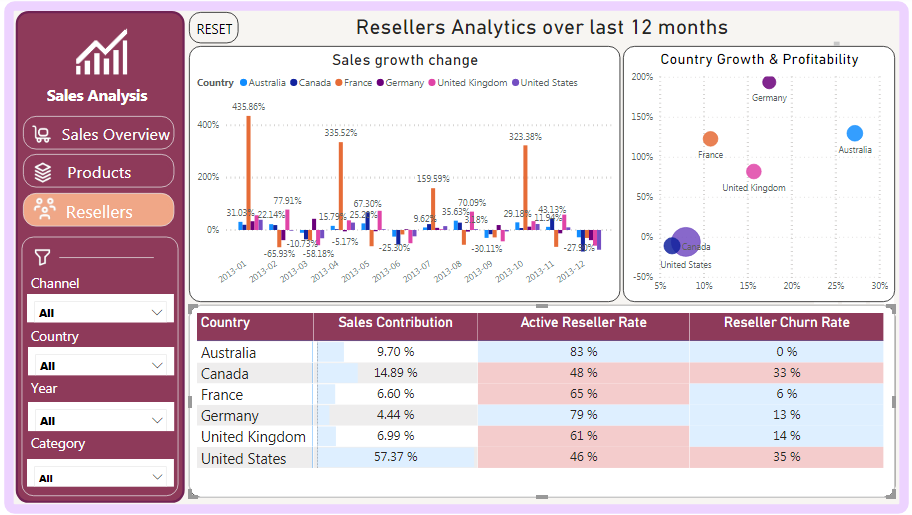

This screenshot's page, from the dashboard's own definition file:
{"tool":"powerbi","page":{"name":"Resellers","canvas":[1280,720],"ordinal":4},"visuals":[{"type":"basicShape","title":"Shape","box":[10.1,0,1269.4,718.6],"z":0},{"type":"basicShape","title":"Shape","box":[35.8,14,237.1,689.6],"z":1000},{"type":"actionButton","box":[48.8,164.3,208.2,46.3],"z":2000,"group":"g1"},{"type":"actionButton","box":[48.8,216.3,208.2,46.3],"z":3000,"group":"g1"},{"type":"basicShape","box":[44.5,327.7,219.8,364.3],"z":5000},{"type":"textbox","box":[53.1,376.8,138.8,36.1],"z":6000},{"type":"slicer","fields":{"Values":["DimSalesTerritory.کشور"]},"box":[54.6,482.4,201,39],"z":7000},{"type":"slicer","fields":{"Values":["tbl_FactTotalSales.Channel"]},"box":[54.1,410.1,202,39],"z":8000},{"type":"slicer","fields":{"Values":["DimDate.Date.Variation.Date Hierarchy.Year"]},"box":[54.6,557.6,201,40.5],"z":9000},{"type":"slicer","fields":{"Values":["DimProductSubcategory.EnglishProductSubcategoryName"]},"box":[54.1,637.1,202,37.6],"z":10000},{"type":"textbox","box":[53.1,596.6,127.2,40.5],"z":11000},{"type":"textbox","box":[53.1,521.4,138.8,34.7],"z":12000},{"type":"textbox","box":[53.1,449.1,138.8,34.7],"z":13000},{"type":"basicShape","box":[87.8,339.3,150.4,40.5],"z":14000},{"type":"textbox","box":[76.3,116.6,161.9,39],"z":15000},{"type":"image","box":[50.2,339.3,47.7,37.6],"z":16000},{"type":"image","box":[96.5,37.1,118.6,79.5],"z":17000},{"type":"image","box":[53.2,222.1,46.3,40.5],"z":18000,"group":"g1"},{"type":"image","box":[53.2,277.1,56.4,37.6],"z":19000,"group":"g1"},{"type":"image","box":[54.6,170.1,40.5,37.6],"z":20000,"group":"g1"},{"type":"clusteredColumnChart","title":"Sales growth change","fields":{"Y":["Measurs.SalesGrowthChanges (%)"],"Series":["DimSalesTerritory.کشور"],"Category":["DimDate.Year_Month"]},"box":[276.3,68.7,592.6,352],"z":21000},{"type":"pivotTable","title":"Product Revenue contribution","fields":{"Values":["Measurs.Sales Contribution %","Measurs.Active reseller","Measurs.Churned Resellers"],"Rows":["DimSalesTerritory.کشور"]},"box":[276.3,424.8,970.7,265.3],"z":22000},{"type":"scatterChart","title":"Country Growth & Profitability","fields":{"X":["Measurs.Contribution Margin (Last 12 Months)"],"Y":["Measurs.Sales Growth 12M %"],"Size":["Measurs.Total Sales (Last 12M)"],"Category":["DimSalesTerritory.Country"]},"box":[873,68.7,374,352],"z":23000},{"type":"textbox","title":"Resellers Analytics over last 12 months","box":[347.5,25.1,827.7,49.5],"z":24000},{"type":"actionButton","box":[275.8,22.6,68,43.4],"z":25000},{"type":"actionButton","box":[48.6,269.9,208.2,46.3],"z":26000,"group":"g1"},{"type":"image","box":[48.9,269.1,59.7,46.1],"z":27000,"group":"g1"},{"type":"group","id":"g1","title":"Group 1","box":[48.6,164.3,208.4,151.8],"z":27001}]}

Visuals, with their boxes in screenshot pixels (x1, y1, x2, y2), scaled from the page's 1280x720 canvas onto the 912x515 screenshot:
"Shape" basicShape: 7 0 911 514
"Shape" basicShape: 26 10 194 503
actionButton: 35 118 183 151
actionButton: 35 155 183 188
basicShape: 32 234 188 495
textbox: 38 270 137 295
slicer - DimSalesTerritory.کشور: 39 345 182 373
slicer - tbl_FactTotalSales.Channel: 39 293 182 321
slicer - DimDate.Date.Variation.Date Hierarchy.Year: 39 399 182 428
slicer - DimProductSubcategory.EnglishProductSubcategoryName: 39 456 182 483
textbox: 38 427 128 456
textbox: 38 373 137 398
textbox: 38 321 137 346
basicShape: 63 243 170 272
textbox: 54 83 170 111
image: 36 243 70 270
image: 69 27 153 83
image: 38 159 71 188
image: 38 198 78 225
image: 39 122 68 149
"Sales growth change" clusteredColumnChart: 197 49 619 301
"Product Revenue contribution" pivotTable: 197 304 888 494
"Country Growth & Profitability" scatterChart: 622 49 888 301
"Resellers Analytics over last 12 months" textbox: 248 18 837 53
actionButton: 197 16 245 47
actionButton: 35 193 183 226
image: 35 192 77 225
"Group 1" group: 35 118 183 226
